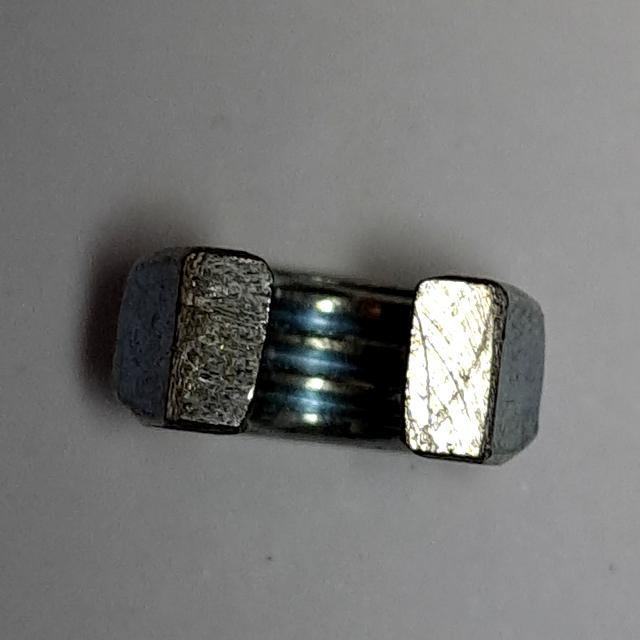Side-Fracture: (100, 227, 566, 475)
